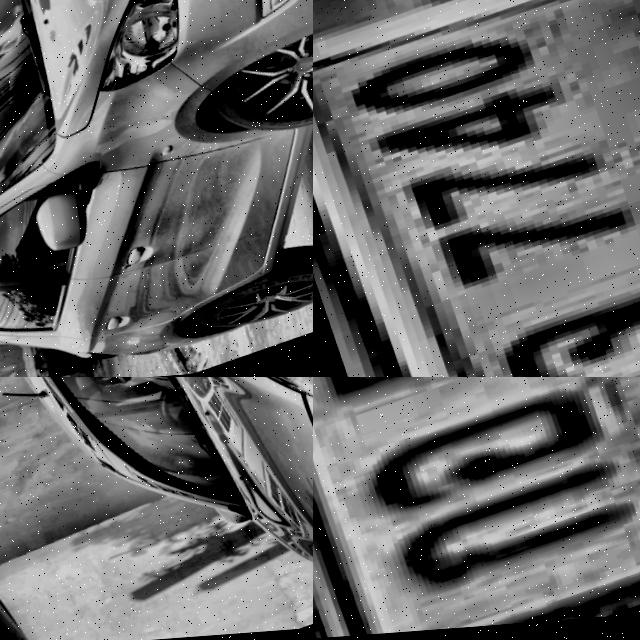license-plate: (313, 0, 640, 377), (313, 377, 640, 640)
